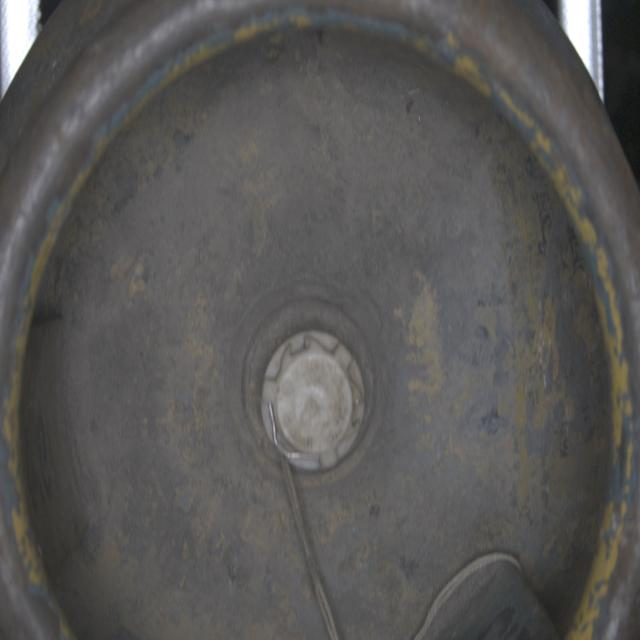Cap: (259, 325, 370, 476)
